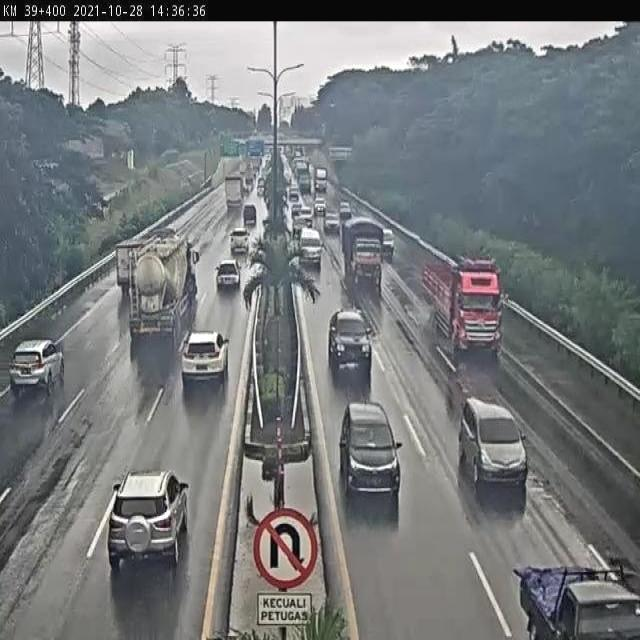Car: (105, 466, 192, 574), (458, 396, 528, 488), (340, 401, 400, 500), (8, 334, 68, 402), (328, 310, 374, 382), (180, 334, 230, 389), (215, 258, 242, 291), (324, 211, 342, 236), (379, 228, 394, 258), (240, 202, 257, 228)
Truck: (125, 238, 205, 349), (420, 252, 505, 356), (340, 217, 387, 293), (113, 236, 138, 290), (225, 228, 252, 254), (224, 172, 243, 206)
Van: (299, 228, 324, 274)
